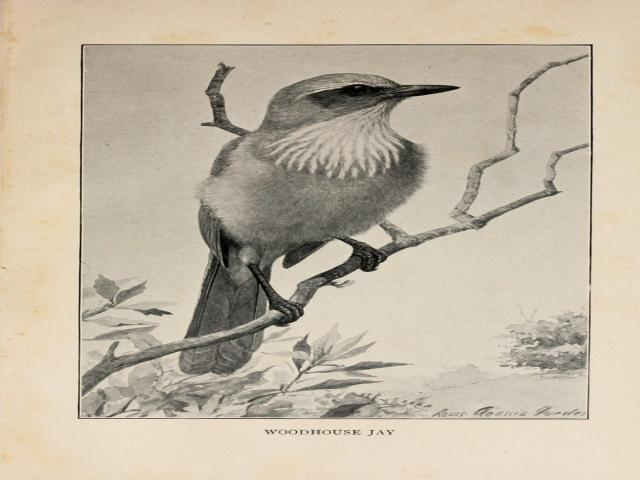Bird: (178, 72, 458, 373)
